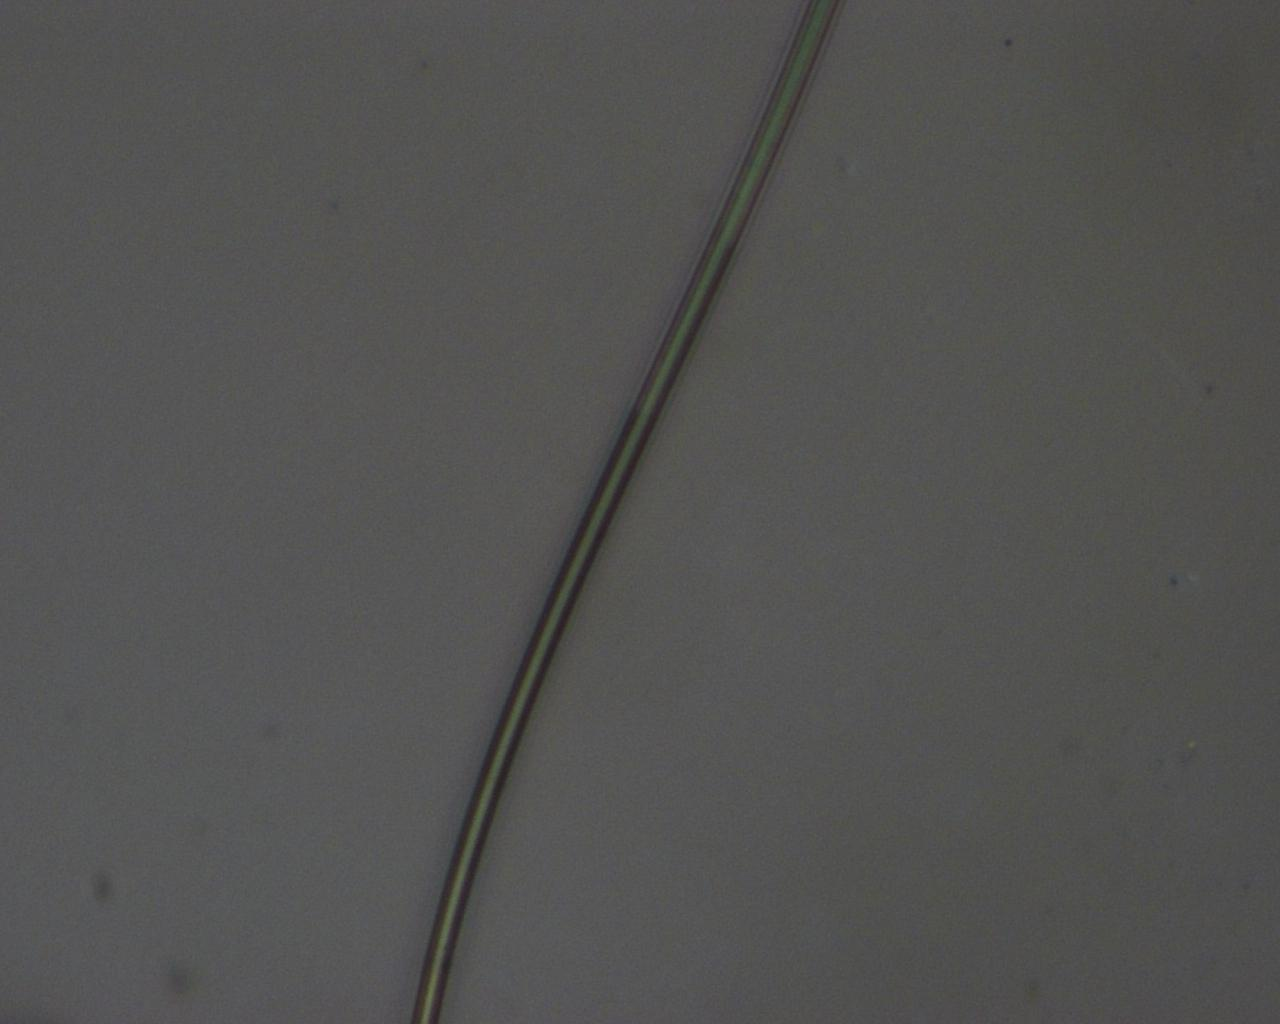fiber: (410, 0, 839, 1024)
